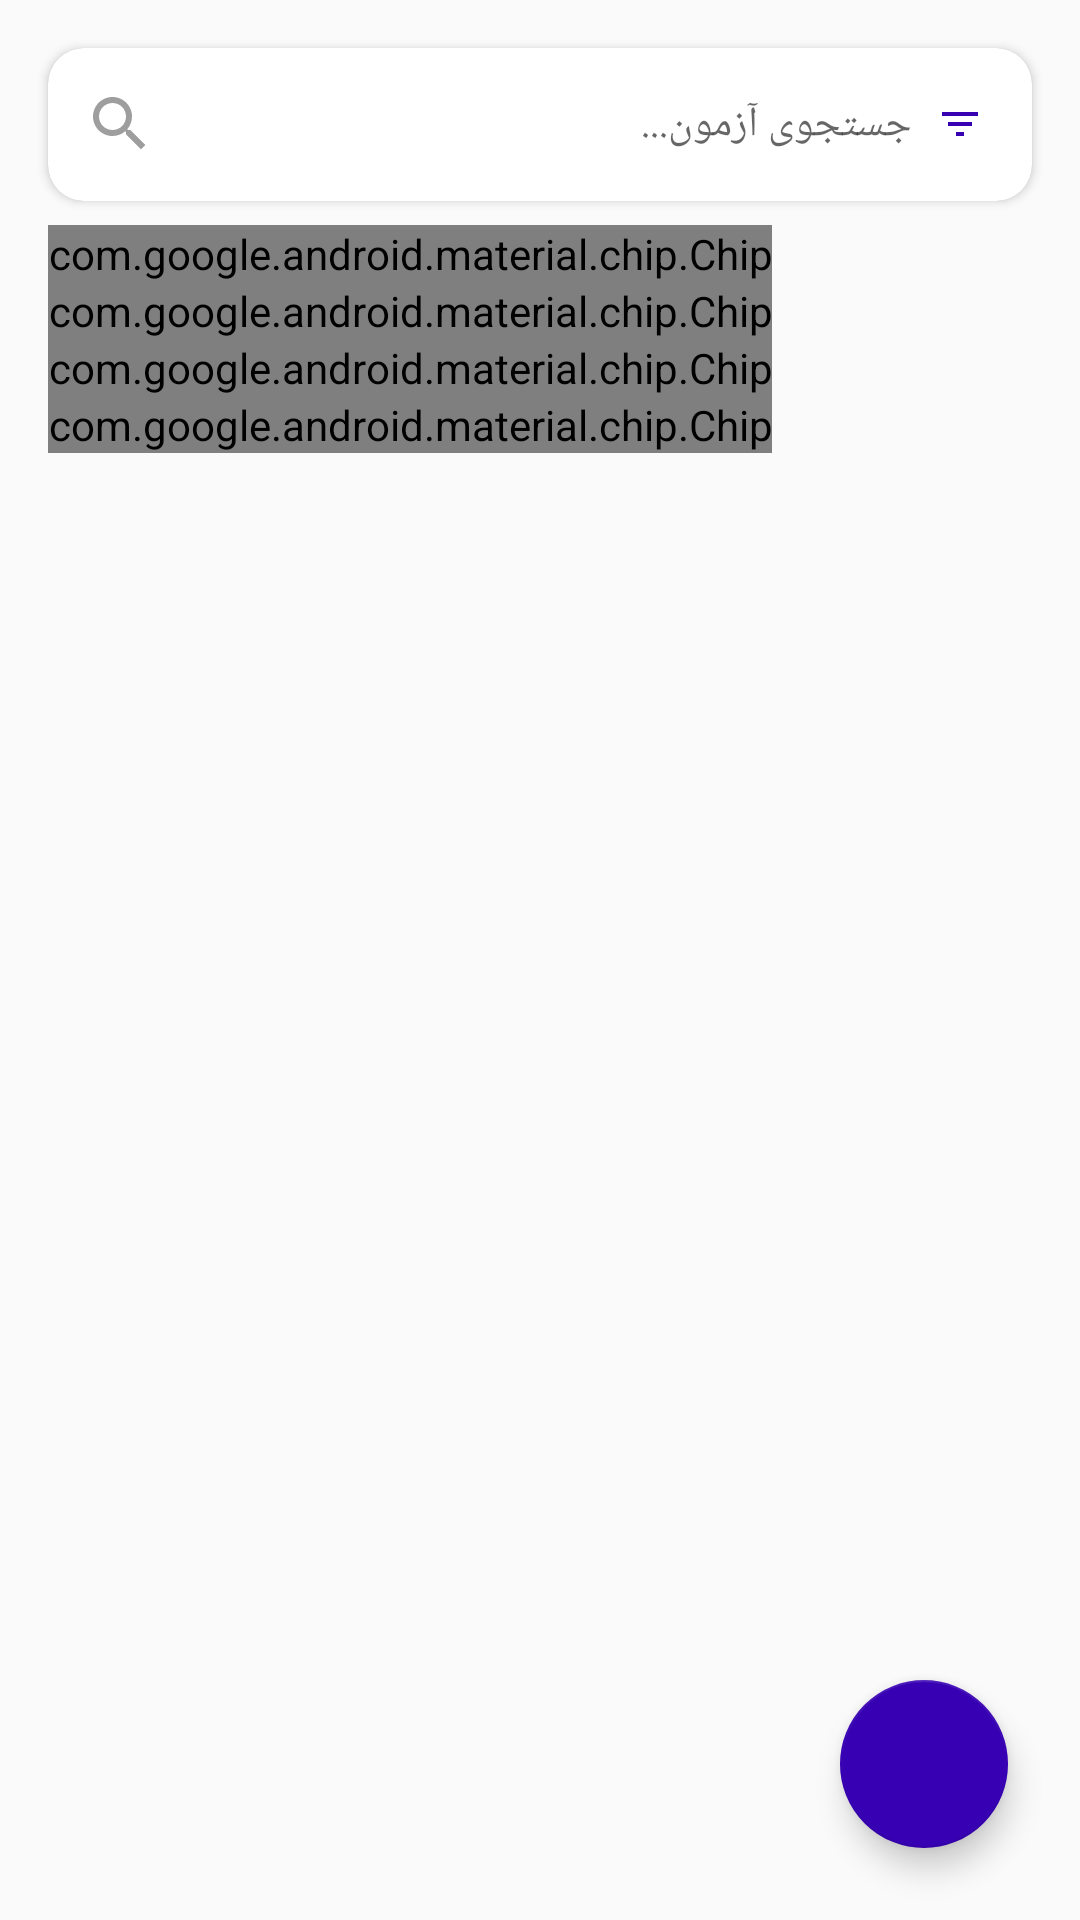

Icon click points for this 1080x1920 phone screenshot, format point (x, y):
filter list: point (960, 124)
search: point (119, 123)
